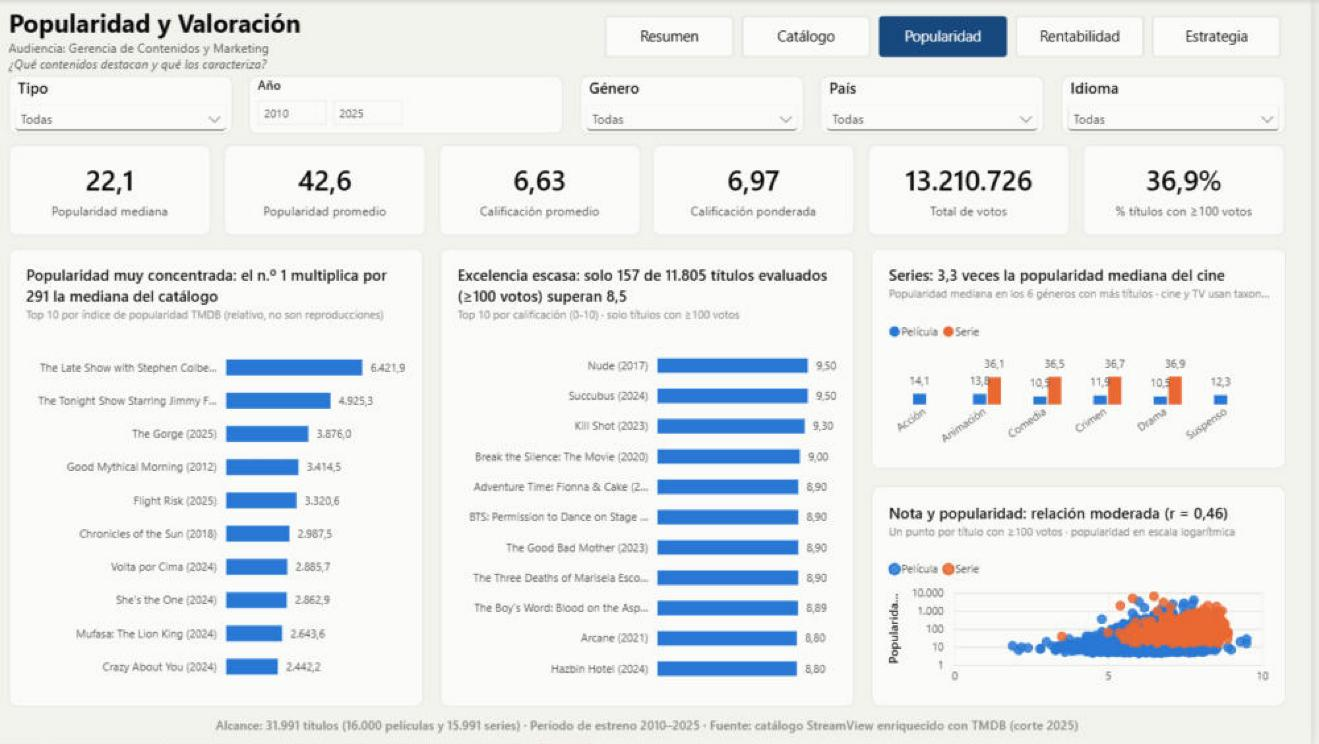

Layout of this report page (visuals, bound fields, positions):
{"tool":"powerbi","page":{"name":"Popularidad","canvas":[1280,720],"ordinal":2},"visuals":[{"type":"textbox","box":[24,6,560,64],"z":1000},{"type":"pageNavigator","box":[600,16,656,40],"z":2000},{"type":"slicer","fields":{"Values":["Contenido.Tipo"]},"box":[24,74,216.3,56],"z":3000},{"type":"slicer","fields":{"Values":["Calendario.Año"]},"box":[256.3,74,302.8,56],"z":4000},{"type":"slicer","fields":{"Values":["Genero.Género"]},"box":[575.1,74,216.3,56],"z":5000},{"type":"slicer","fields":{"Values":["Pais.País"]},"box":[807.4,74,216.3,56],"z":6000},{"type":"slicer","fields":{"Values":["Contenido.Idioma"]},"box":[1039.7,74,216.3,56],"z":7000},{"type":"card","fields":{"Values":["Medidas.Popularidad Mediana"]},"box":[24,140,195.3,88],"z":8000},{"type":"card","fields":{"Values":["Medidas.Popularidad Promedio"]},"box":[231.3,140,195.3,88],"z":9000},{"type":"card","fields":{"Values":["Medidas.Calificación Promedio"]},"box":[438.7,140,195.3,88],"z":10000},{"type":"card","fields":{"Values":["Medidas.Calificación Ponderada"]},"box":[646,140,195.3,88],"z":11000},{"type":"card","fields":{"Values":["Medidas.Total Votos"]},"box":[853.3,140,195.3,88],"z":12000},{"type":"card","fields":{"Values":["Medidas.% Evaluación Confiable"]},"box":[1060.7,140,195.3,88],"z":13000},{"type":"clusteredBarChart","fields":{"Category":["Contenido.Título (Año)"],"Y":["Medidas.Popularidad Promedio"]},"box":[24,240,400,442],"z":14000},{"type":"clusteredBarChart","fields":{"Category":["Contenido.Título (Año)"],"Y":["Medidas.Calificación Confiable"]},"box":[440,240,400,442],"z":15000},{"type":"clusteredColumnChart","fields":{"Category":["Genero.Género"],"Series":["Contenido.Tipo"],"Y":["Medidas.Popularidad Mediana"]},"box":[856,240,400,213],"z":16000},{"type":"scatterChart","fields":{"Category":["Contenido.Título (Año)"],"Series":["Contenido.Tipo"],"X":["Medidas.Calificación Promedio"],"Y":["Medidas.Popularidad Promedio"]},"box":[856,469,400,213],"z":17000},{"type":"card","fields":{"Values":["Medidas.Texto Alcance"]},"box":[24,686,1232,32],"z":18000}]}

Visuals, with their boxes in screenshot pixels (x1, y1, x2, y2), scaled from the page's 1280x720 canvas onto the 1319x744 screenshot:
textbox: {"left": 25, "top": 6, "right": 602, "bottom": 72}
pageNavigator: {"left": 618, "top": 17, "right": 1294, "bottom": 58}
slicer - Contenido.Tipo: {"left": 25, "top": 76, "right": 248, "bottom": 134}
slicer - Calendario.Año: {"left": 264, "top": 76, "right": 576, "bottom": 134}
slicer - Genero.Género: {"left": 593, "top": 76, "right": 816, "bottom": 134}
slicer - Pais.País: {"left": 832, "top": 76, "right": 1055, "bottom": 134}
slicer - Contenido.Idioma: {"left": 1071, "top": 76, "right": 1294, "bottom": 134}
card - Medidas.Popularidad Mediana: {"left": 25, "top": 145, "right": 226, "bottom": 236}
card - Medidas.Popularidad Promedio: {"left": 238, "top": 145, "right": 440, "bottom": 236}
card - Medidas.Calificación Promedio: {"left": 452, "top": 145, "right": 653, "bottom": 236}
card - Medidas.Calificación Ponderada: {"left": 666, "top": 145, "right": 867, "bottom": 236}
card - Medidas.Total Votos: {"left": 879, "top": 145, "right": 1081, "bottom": 236}
card - Medidas.% Evaluación Confiable: {"left": 1093, "top": 145, "right": 1294, "bottom": 236}
clusteredBarChart - Contenido.Título (Año) x Medidas.Popularidad Promedio: {"left": 25, "top": 248, "right": 437, "bottom": 705}
clusteredBarChart - Contenido.Título (Año) x Medidas.Calificación Confiable: {"left": 453, "top": 248, "right": 866, "bottom": 705}
clusteredColumnChart - Genero.Género x Contenido.Tipo: {"left": 882, "top": 248, "right": 1294, "bottom": 468}
scatterChart - Contenido.Título (Año) x Contenido.Tipo: {"left": 882, "top": 485, "right": 1294, "bottom": 705}
card - Medidas.Texto Alcance: {"left": 25, "top": 709, "right": 1294, "bottom": 742}
